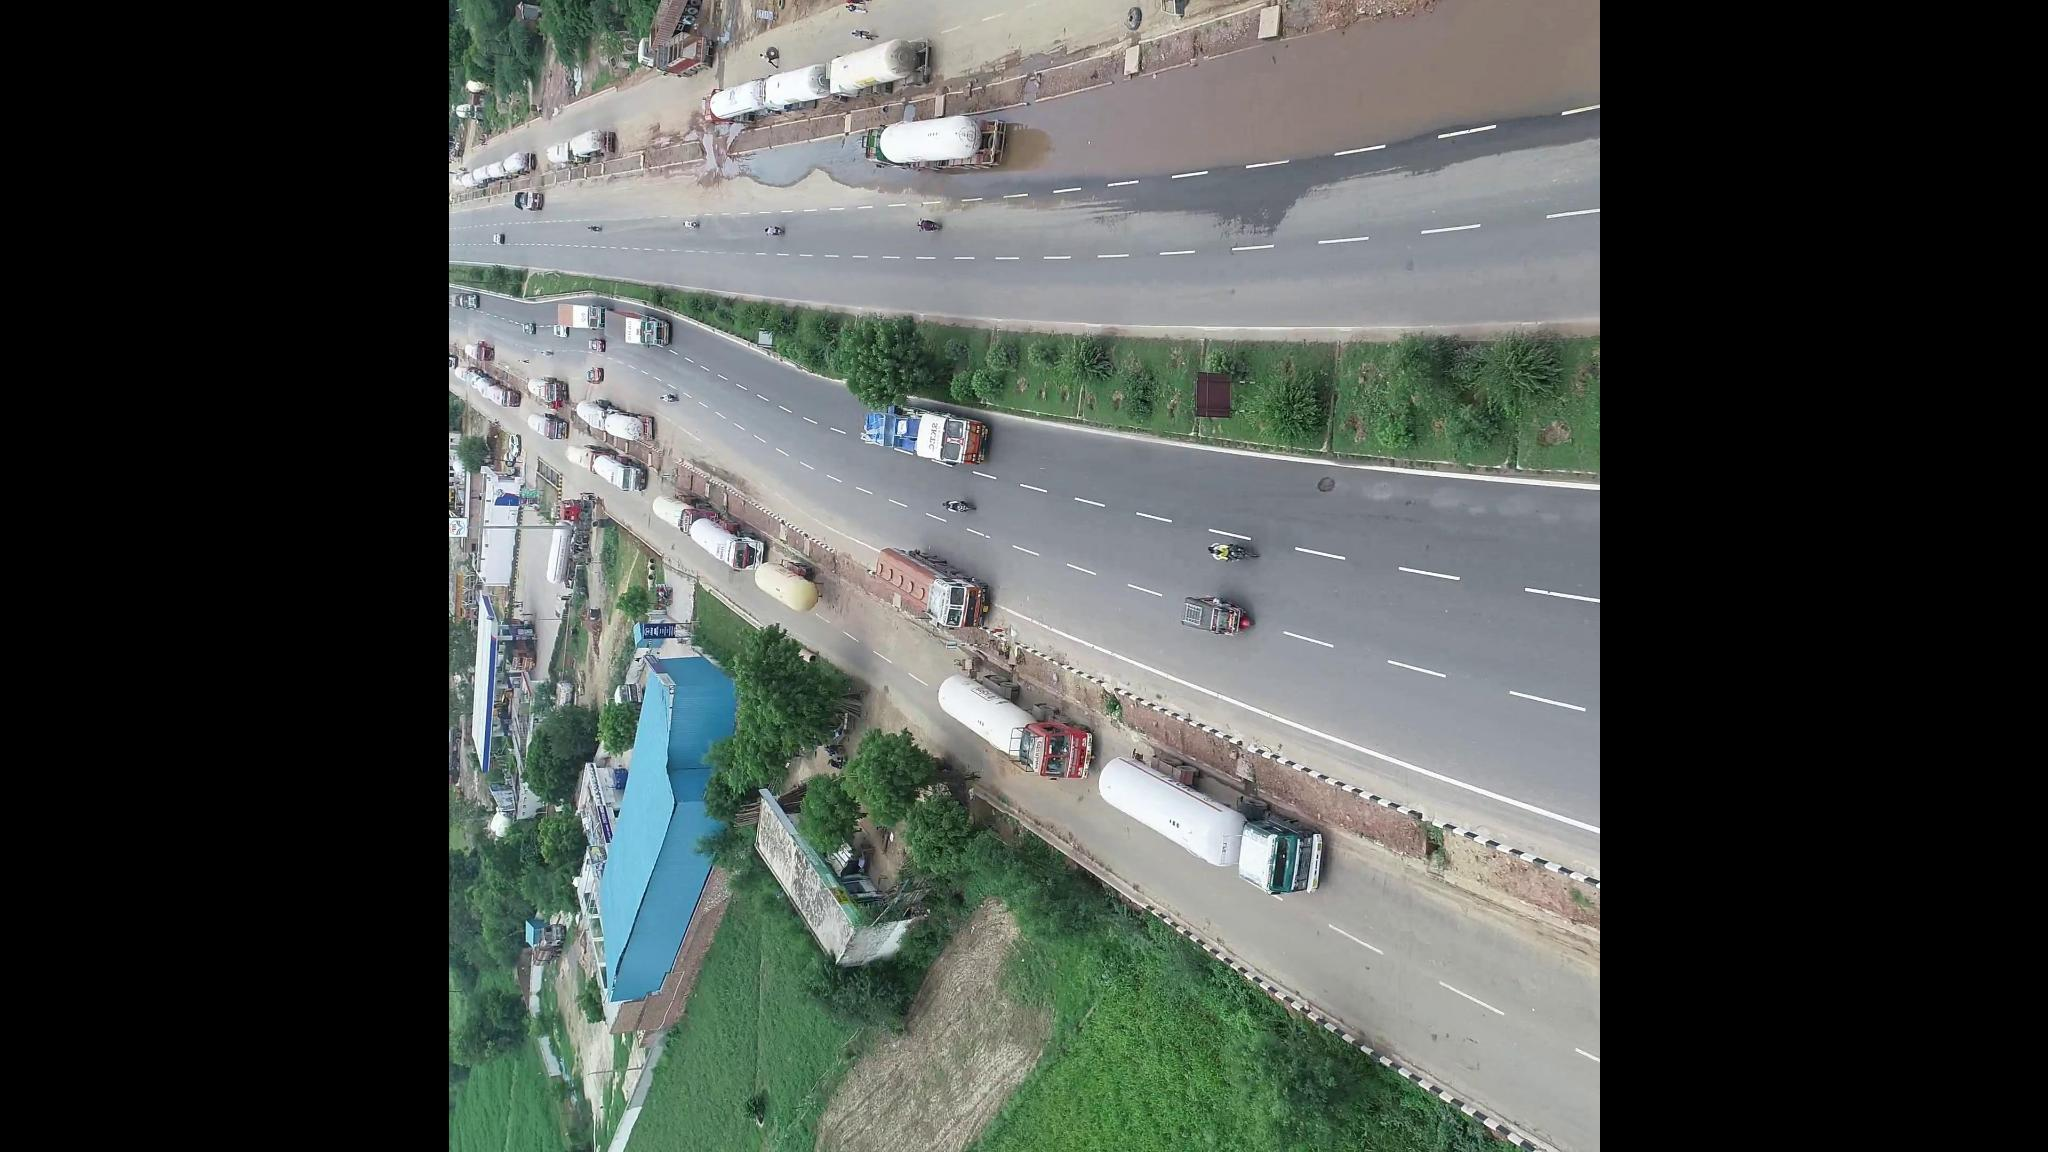Potholes: (1303, 466, 1360, 523)
Waterlogging: (1108, 27, 1383, 181), (1384, 1, 1588, 134)
